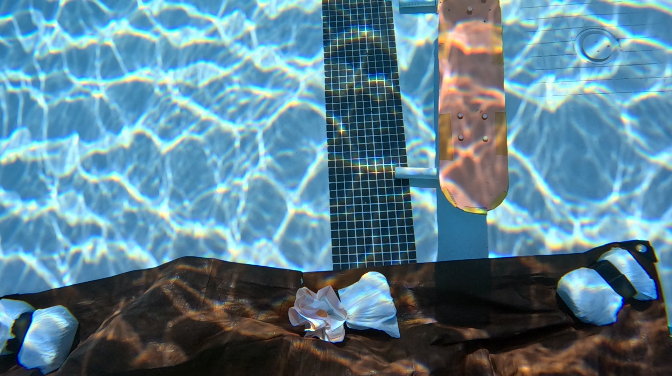pathmarker: (436, 0, 509, 212)
sandbag: (0, 239, 671, 374)
